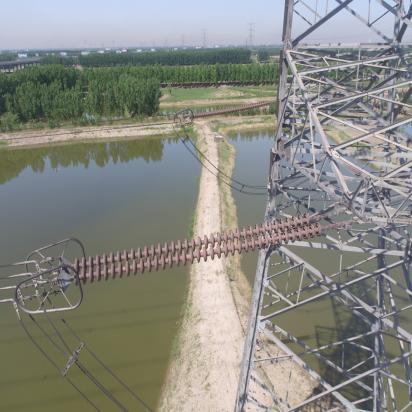insulator: (66, 211, 333, 287), (191, 99, 276, 120)
